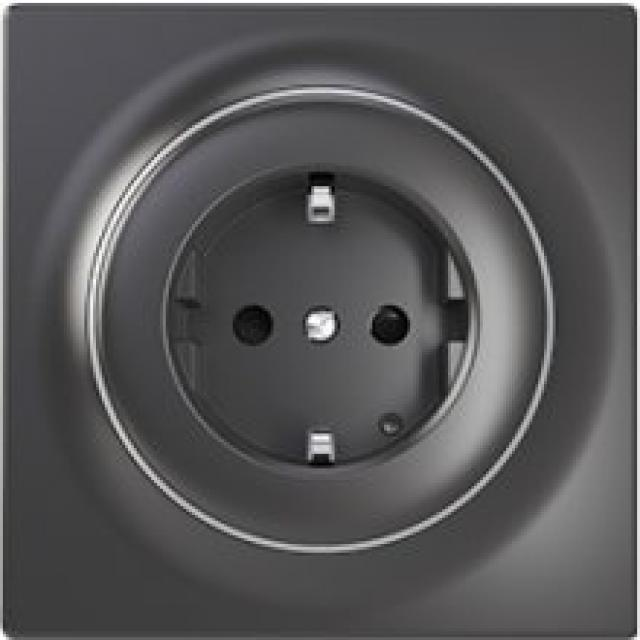typeb: (114, 108, 521, 538)
